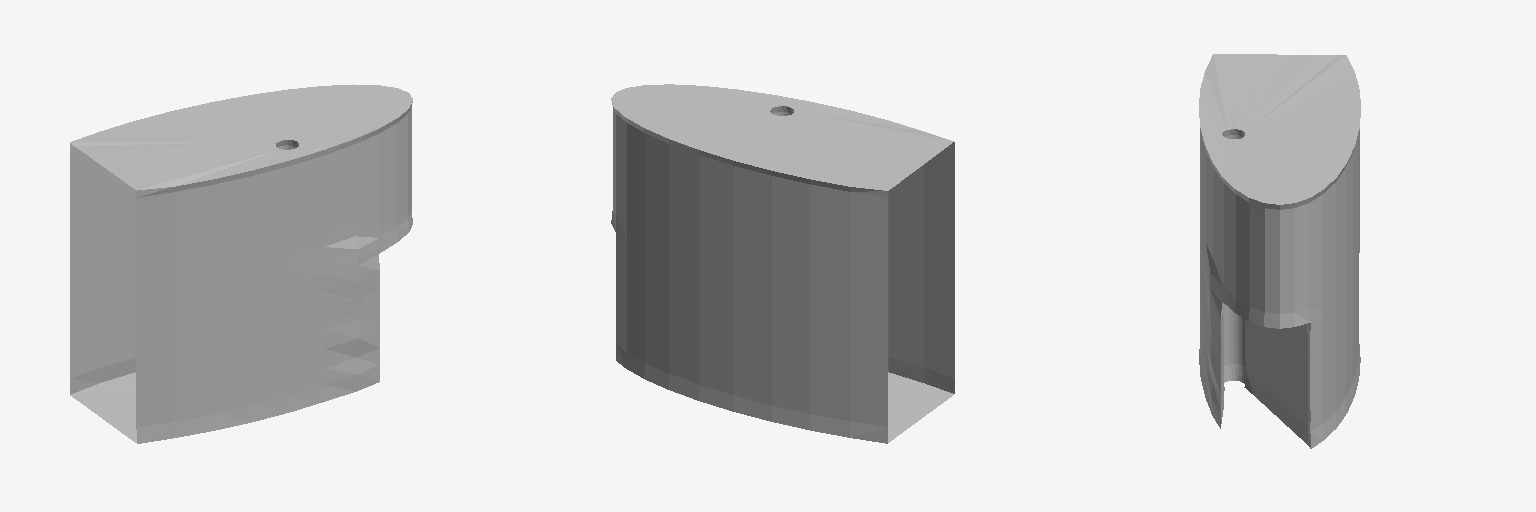
File: deepCutTest_deepBed.obj
The picture shows the model from 3 angles: view 1: azimuth 30°, elevation 25°; view 2: azimuth 150°, elevation 25°; view 3: azimuth 270°, elevation 25°; orthographic projection.
Bounding box in the file's own units: 5.15 × 4.09 × 2.37.